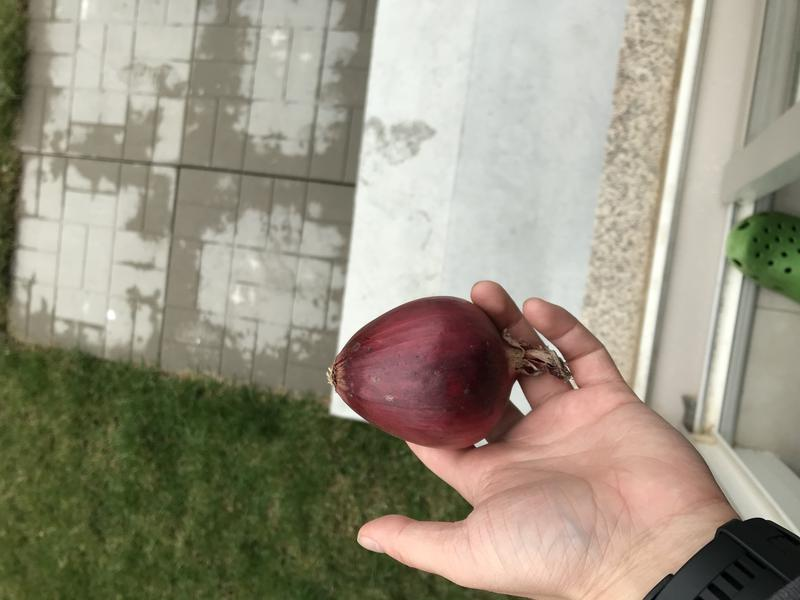purple_onion: (317, 292, 575, 461)
